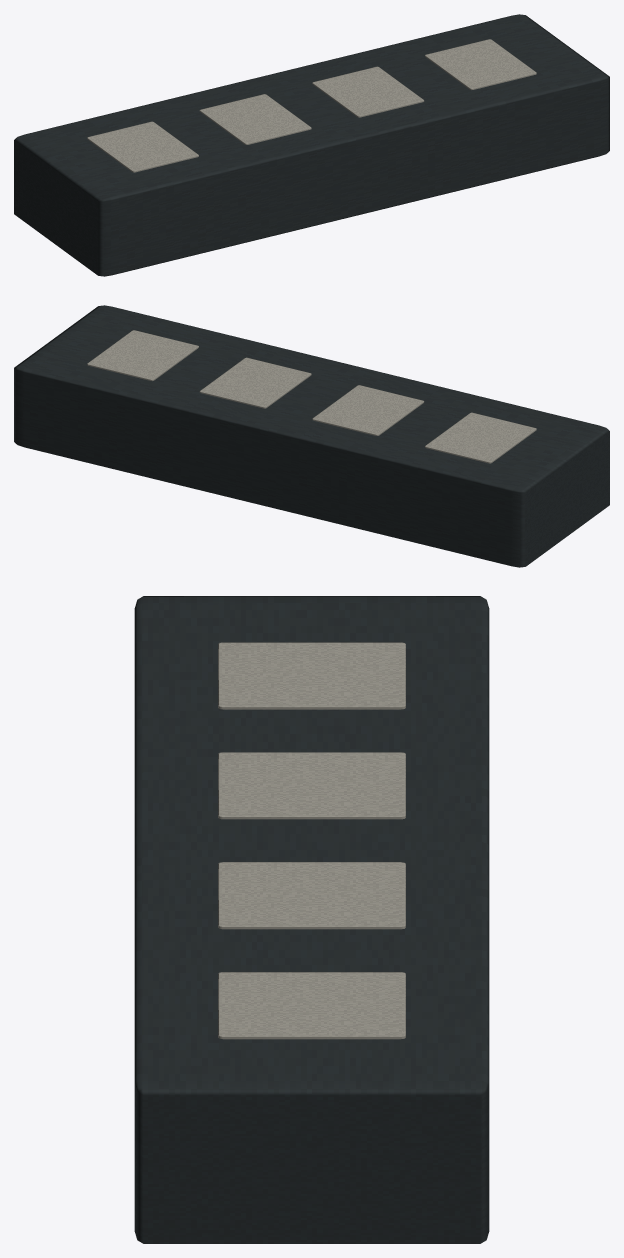
File: power-strip.glb
The picture shows the model from 3 angles, top to bottom: view 1: azimuth 30°, elevation 25°; view 2: azimuth 150°, elevation 25°; view 3: azimuth 270°, elevation 25°; orthographic projection. The views are drawn at different scales.
Parts seen in each view (by area): view 1: body, socket (×4); view 2: body, socket (×4); view 3: body, socket (×4).
Part boxes in pixels (<box>): body: <box>14,14,609,276</box>; socket (×4): <box>87,39,536,172</box>; body: <box>14,305,609,567</box>; socket (×4): <box>87,330,536,463</box>; body: <box>134,596,489,1243</box>; socket (×4): <box>218,642,405,1039</box>.
Bounding box in the file's own units: 0.24 × 0.0355 × 0.072.
2 materials, 2 textured.
